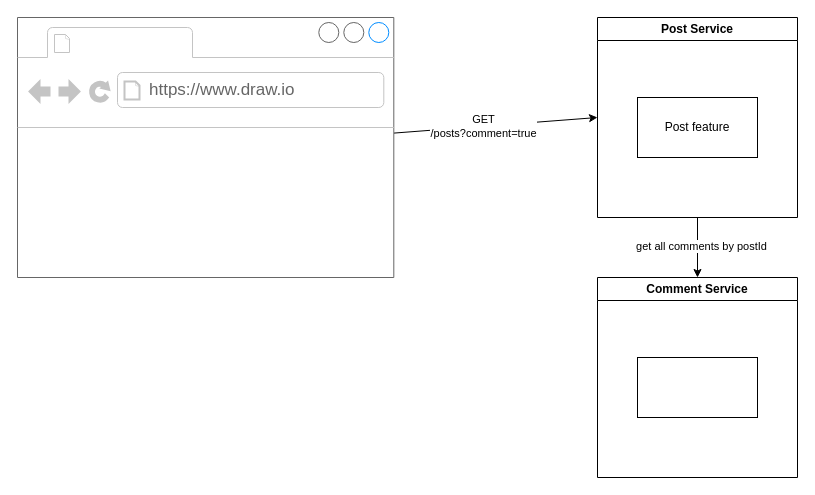
The diagram is 815 pixels wide and 495 high, and some of its shapes have lost their labels. Each missing label, with the centre of its shape:
Comment feature: point 697,387
Page 1: point 132,42
